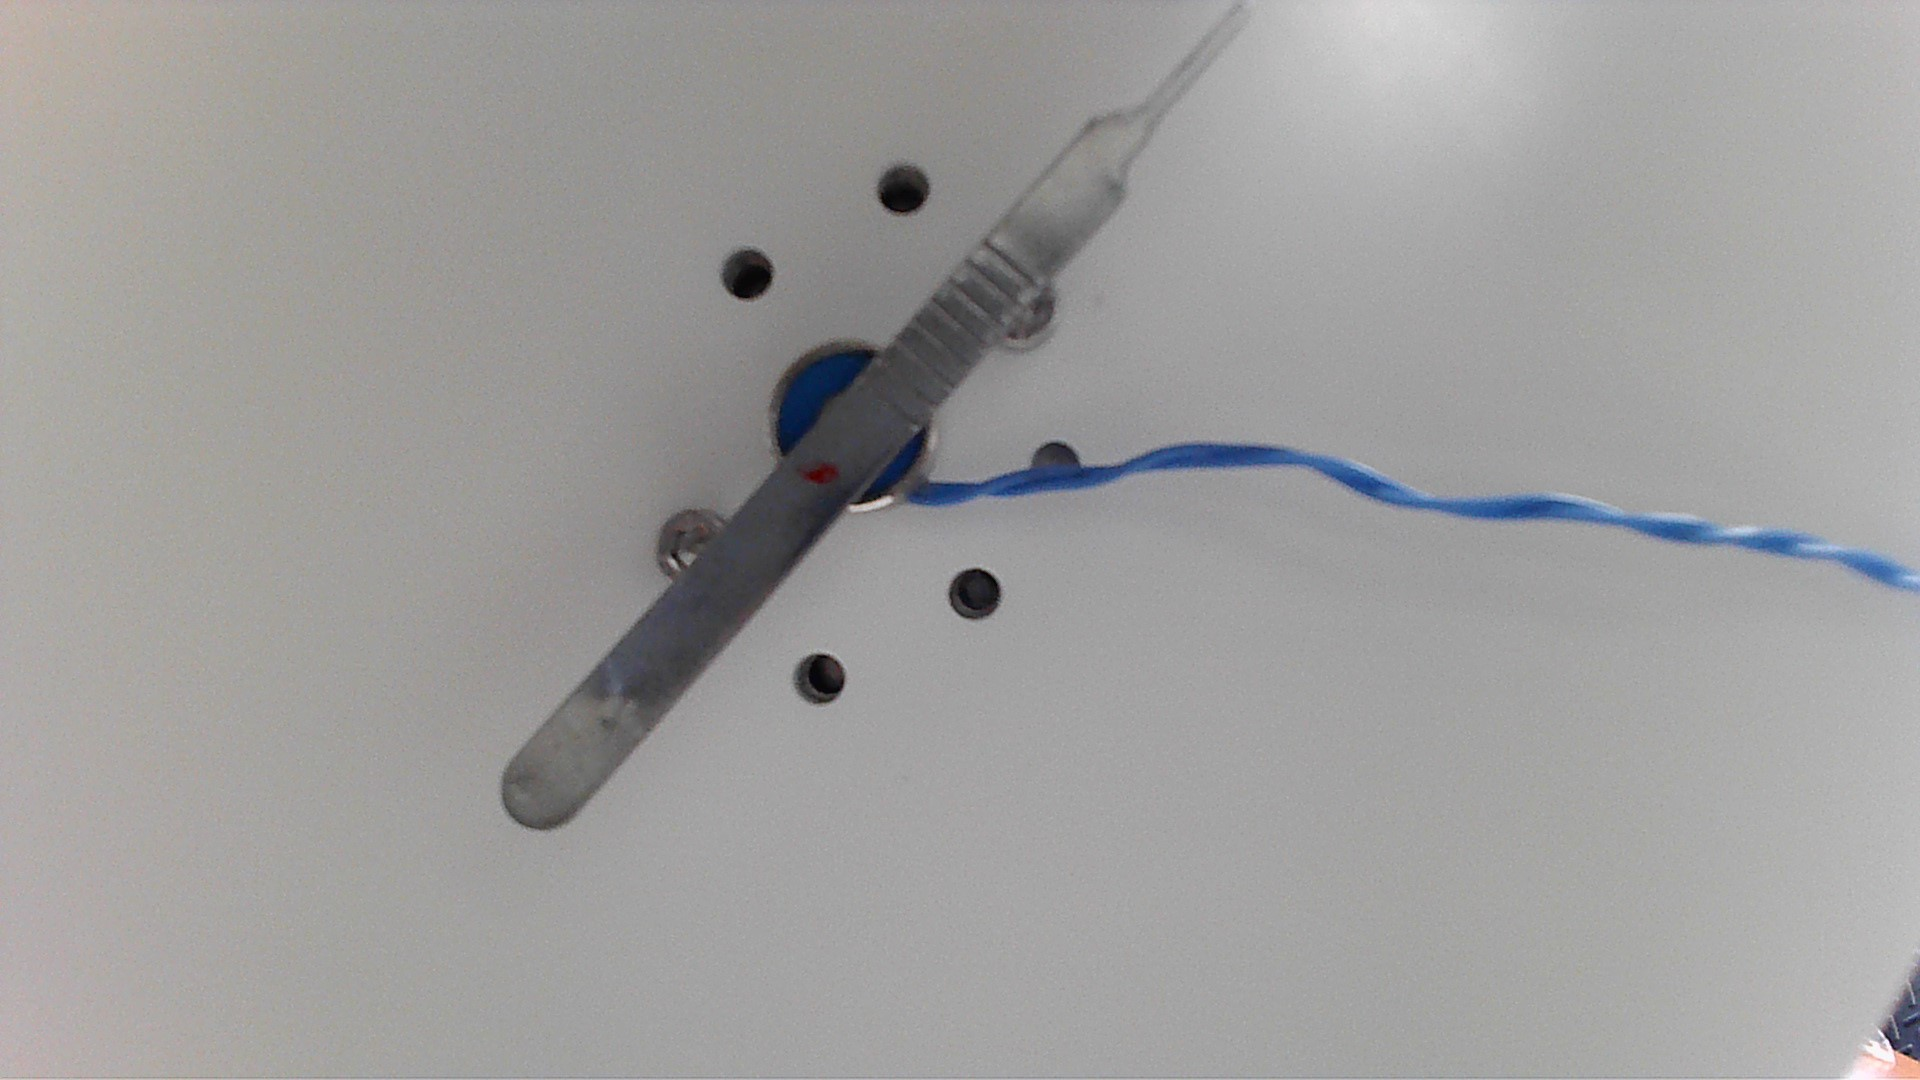Stain: (791, 448, 841, 488)
